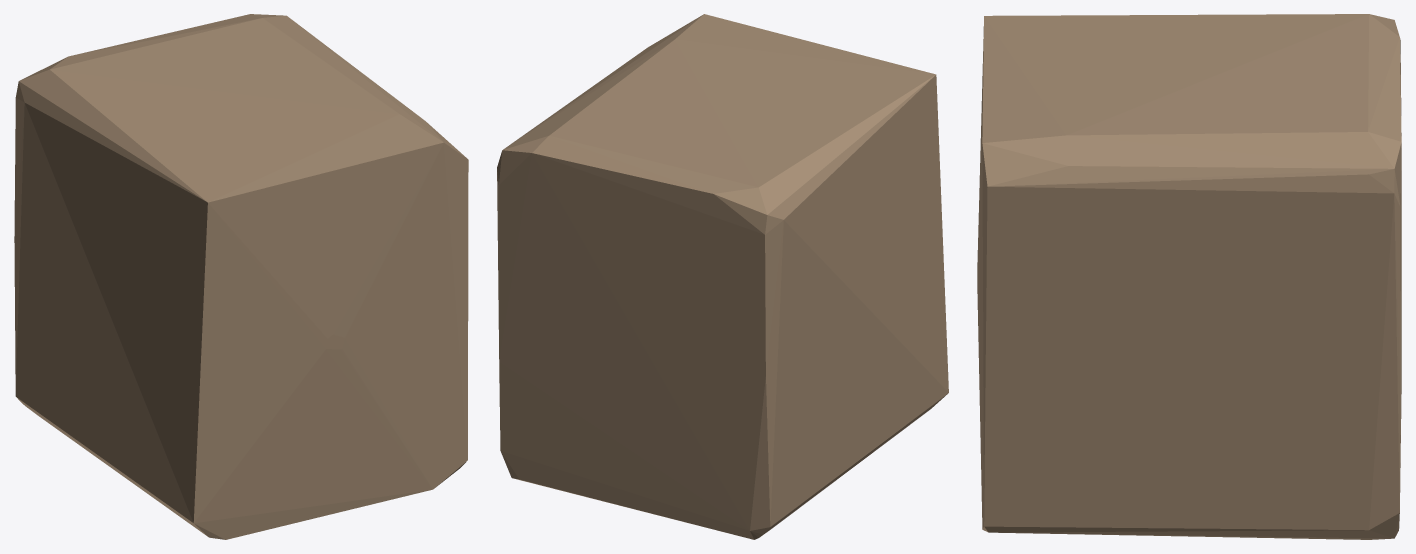
The model's file is ibcTank_a02.glb.
3 renders of one model, left to right at view 1: azimuth 30°, elevation 25°; view 2: azimuth 150°, elevation 25°; view 3: azimuth 270°, elevation 25°, orthographic. The views are drawn at different scales.
Parts seen in each view (by area): view 1: geometry_0; view 2: geometry_0; view 3: geometry_0.
Part boxes in pixels (x1,y1,x2,y2): geometry_0: (14, 14, 468, 539); geometry_0: (497, 14, 948, 539); geometry_0: (977, 14, 1401, 539).
Bounding box in the file's own units: 0.3976 × 0.4784 × 0.4595.
